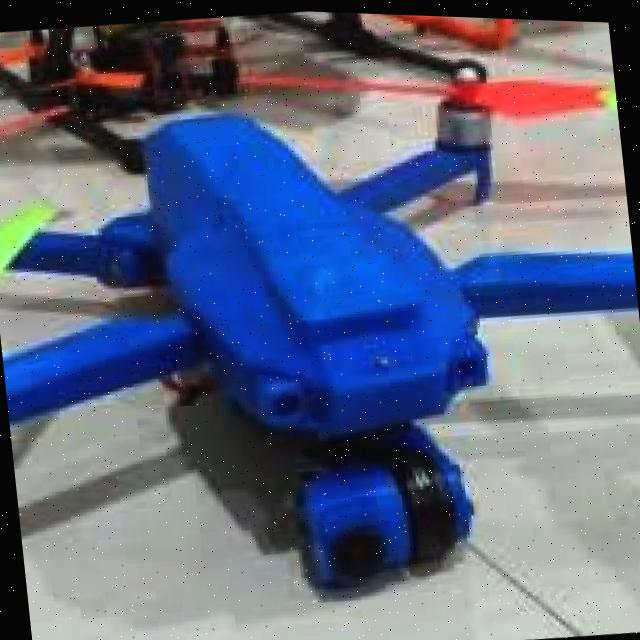drone: (0, 3, 640, 621)
